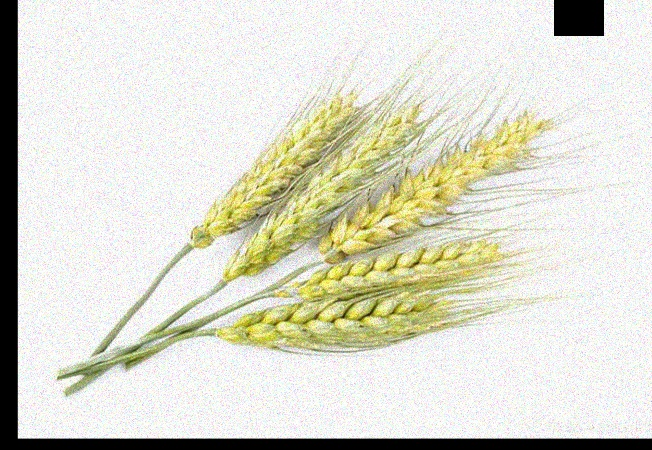wheat: (211, 115, 412, 283), (313, 122, 547, 261), (187, 87, 366, 241), (274, 234, 523, 300), (206, 294, 466, 350)
